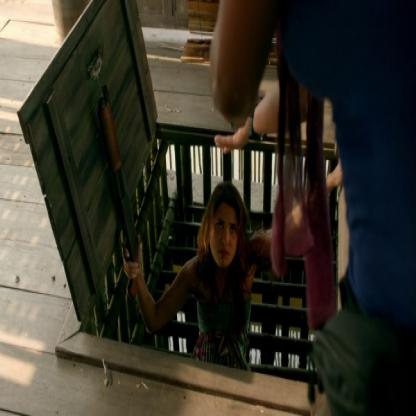Guns: (93, 76, 144, 299)
